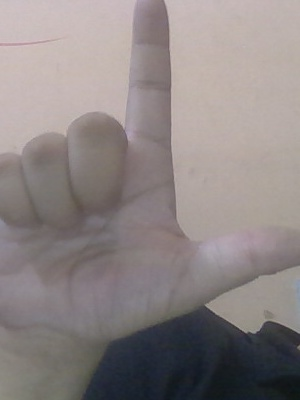L: (18, 3, 300, 366)
